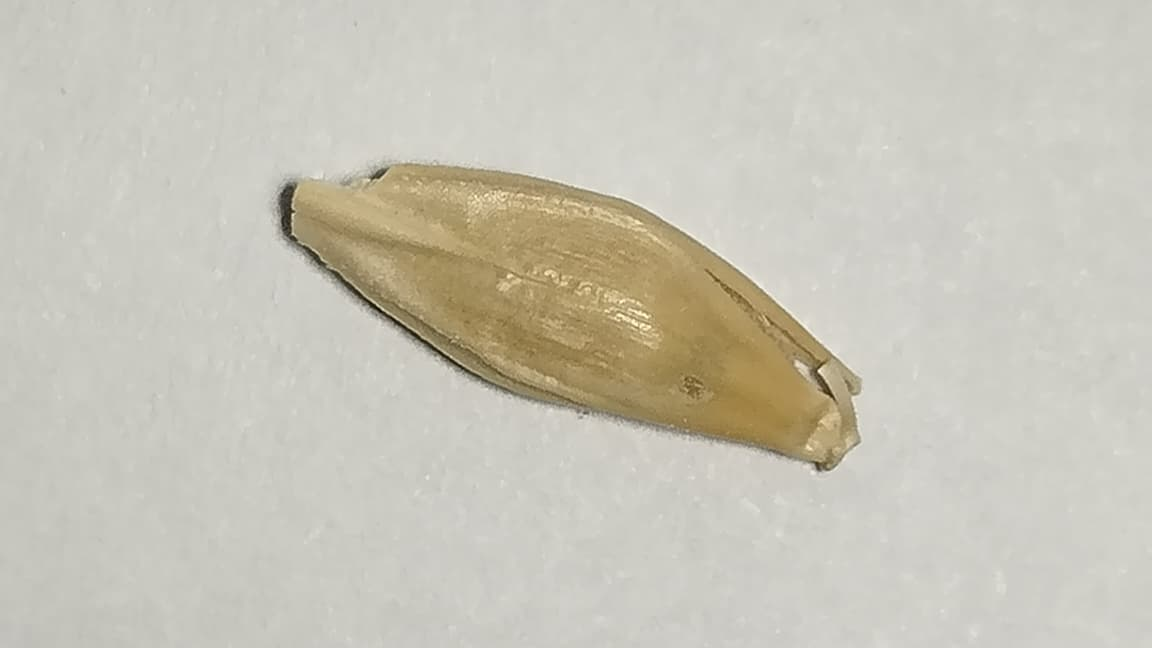healthy-50-40: (291, 165, 858, 468)
